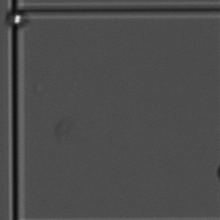Living Cell: (7, 10, 26, 27)
